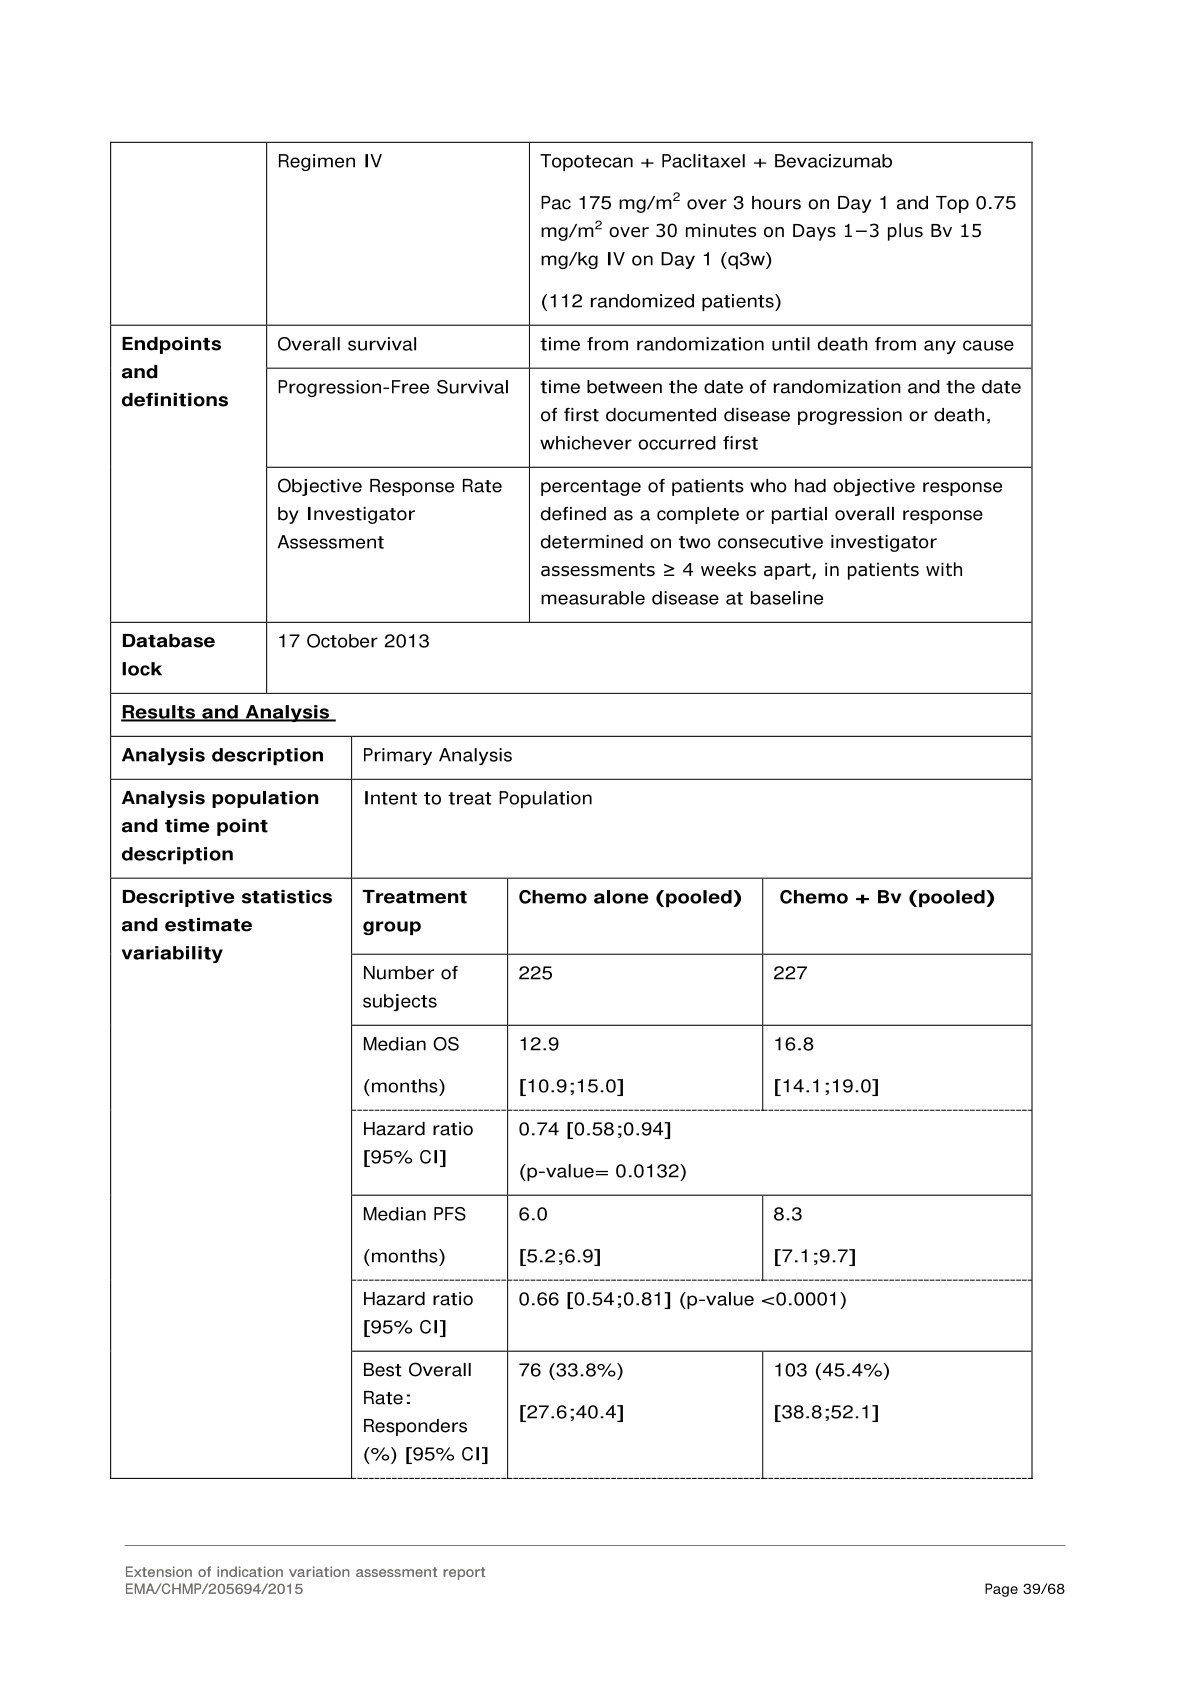merged_cells: (109, 140, 1034, 1480)
